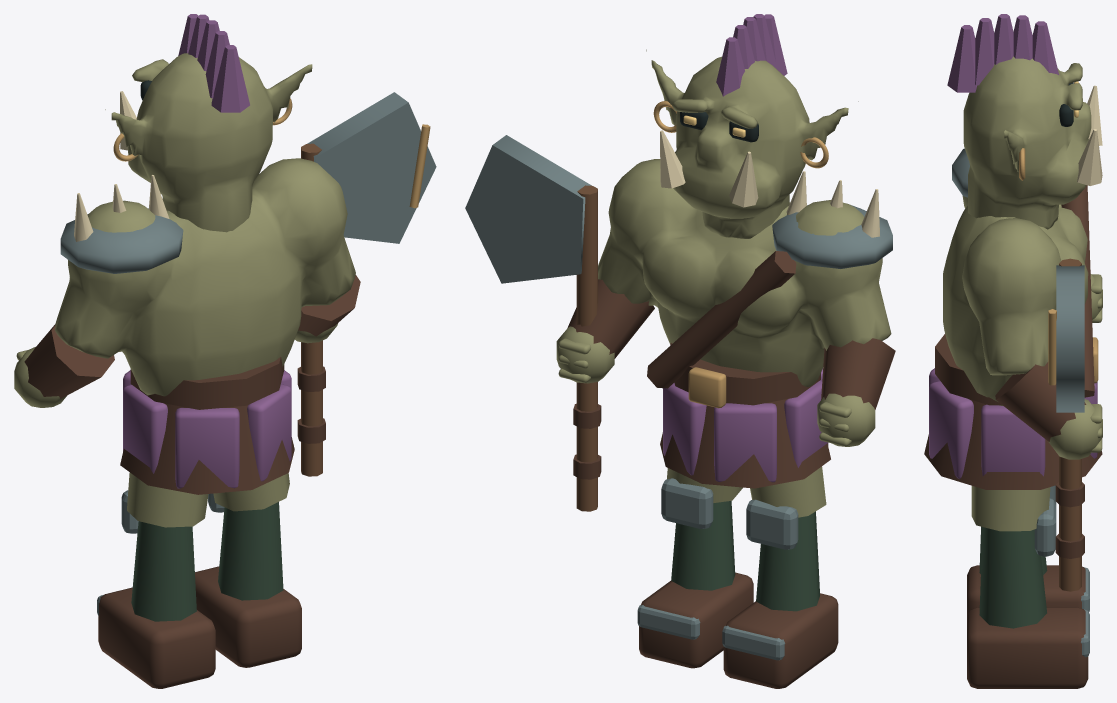
File: host_13.glb
3 renders of one model, left to right at view 1: azimuth 30°, elevation 25°; view 2: azimuth 150°, elevation 25°; view 3: azimuth 270°, elevation 25°, orthographic. The views are drawn at different scales.
Visible parts, largest first — view 1: mesh_Skin.002, mesh_Iron.002, mesh_Leather.002, mesh_Cloth.012, mesh_Leather.012, mesh_Leather.001, mesh_Shadow.012, mesh_Shadow.001, mesh_Skin.012, mesh_Wood.012, mesh_Bone.012, mesh_Skin.001 (+1 smaller); view 2: mesh_Skin.002, mesh_Leather.002, mesh_Iron.002, mesh_Cloth.012, mesh_Leather.012, mesh_Leather.001, mesh_Wood.012, mesh_Shadow.012, mesh_Shadow.001, mesh_Iron.012, mesh_Iron.001, mesh_Bone.012 (+4 smaller); view 3: mesh_Skin.002, mesh_Cloth.012, mesh_Leather.002, mesh_Leather.001, mesh_Shadow.001, mesh_Iron.002, mesh_Skin.001, mesh_Wood.012, mesh_Leather.012, mesh_Bone.012, mesh_Iron.001, mesh_Copper.012 (+2 smaller).
Part boxes in pixels (left/top/right/bottom): mesh_Skin.002: left=14, top=53, right=355, bottom=407; mesh_Iron.002: left=60, top=92, right=436, bottom=273; mesh_Leather.002: left=24, top=275, right=360, bottom=494; mesh_Cloth.012: left=123, top=14, right=291, bottom=488; mesh_Leather.012: left=98, top=587, right=215, bottom=688; mesh_Leather.001: left=195, top=566, right=301, bottom=667; mesh_Shadow.012: left=131, top=521, right=196, bottom=621; mesh_Shadow.001: left=218, top=502, right=283, bottom=600; mesh_Skin.012: left=127, top=472, right=208, bottom=527; mesh_Wood.012: left=301, top=143, right=322, bottom=476; mesh_Bone.012: left=74, top=91, right=169, bottom=241; mesh_Skin.001: left=213, top=473, right=289, bottom=511; mesh_Skin.002: left=556, top=49, right=891, bottom=446; mesh_Leather.002: left=567, top=251, right=895, bottom=488; mesh_Iron.002: left=465, top=135, right=892, bottom=283; mesh_Cloth.012: left=663, top=14, right=828, bottom=482; mesh_Leather.012: left=723, top=593, right=838, bottom=688; mesh_Leather.001: left=639, top=572, right=753, bottom=668; mesh_Wood.012: left=576, top=185, right=597, bottom=511; mesh_Shadow.012: left=756, top=511, right=819, bottom=611; mesh_Shadow.001: left=671, top=501, right=735, bottom=590; mesh_Iron.012: left=722, top=499, right=798, bottom=660; mesh_Iron.001: left=637, top=478, right=713, bottom=639; mesh_Bone.012: left=660, top=130, right=879, bottom=237; mesh_Skin.002: left=943, top=56, right=1102, bottom=459; mesh_Cloth.012: left=929, top=14, right=1097, bottom=479; mesh_Leather.002: left=924, top=185, right=1102, bottom=558; mesh_Leather.001: left=967, top=607, right=1088, bottom=688; mesh_Shadow.001: left=979, top=527, right=1046, bottom=628; mesh_Iron.002: left=952, top=148, right=1084, bottom=412; mesh_Skin.001: left=971, top=486, right=1050, bottom=531; mesh_Wood.012: left=1059, top=258, right=1081, bottom=591; mesh_Leather.012: left=967, top=565, right=1085, bottom=616; mesh_Bone.012: left=1077, top=85, right=1102, bottom=185; mesh_Iron.001: left=1034, top=498, right=1089, bottom=657; mesh_Copper.012: left=1019, top=148, right=1098, bottom=385.
Size of the model in its own units: 1.32 by 1.98 by 0.501.
